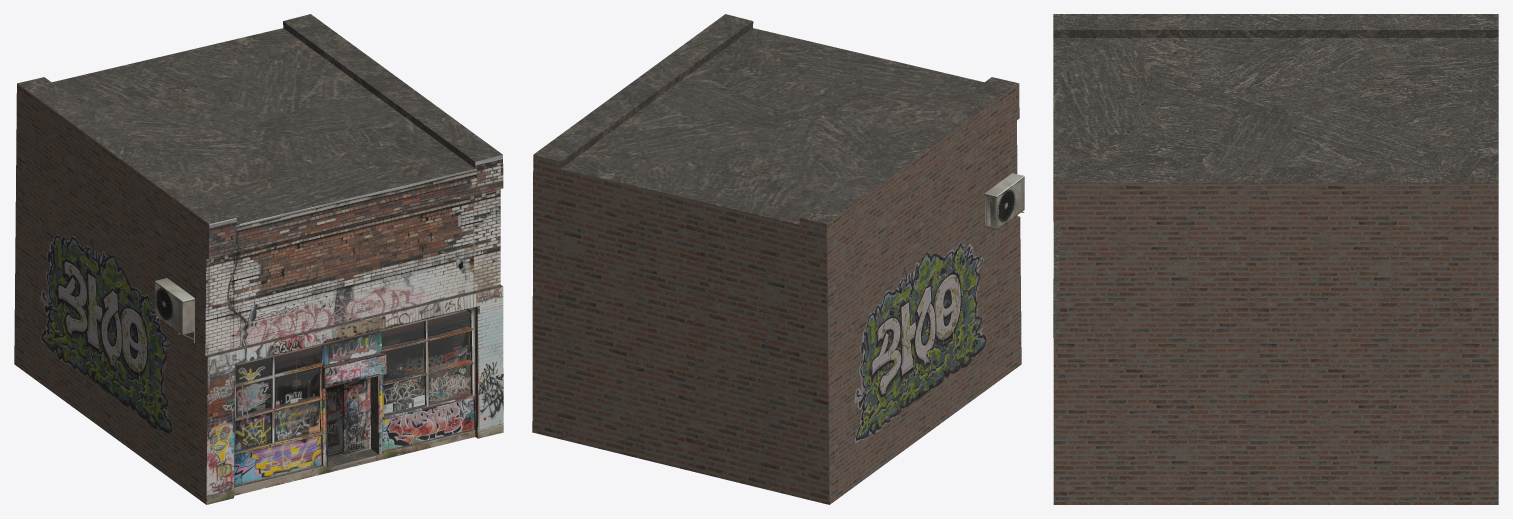
Rendered from ghetto.gltf.
3 renders of one model, left to right at view 1: azimuth 30°, elevation 25°; view 2: azimuth 150°, elevation 25°; view 3: azimuth 270°, elevation 25°, orthographic. The views are drawn at different scales.
Visible parts, largest first — view 1: Building4; view 2: Building4; view 3: Building4.
Boxes of the visible parts, x1=… form: Building4: x1=14, y1=14, x2=503, y2=504; Building4: x1=532, y1=14, x2=1024, y2=504; Building4: x1=1053, y1=14, x2=1498, y2=504.
Size of the model in its own units: 8.59 by 7.37 by 9.16.
6 materials, 6 textured.
